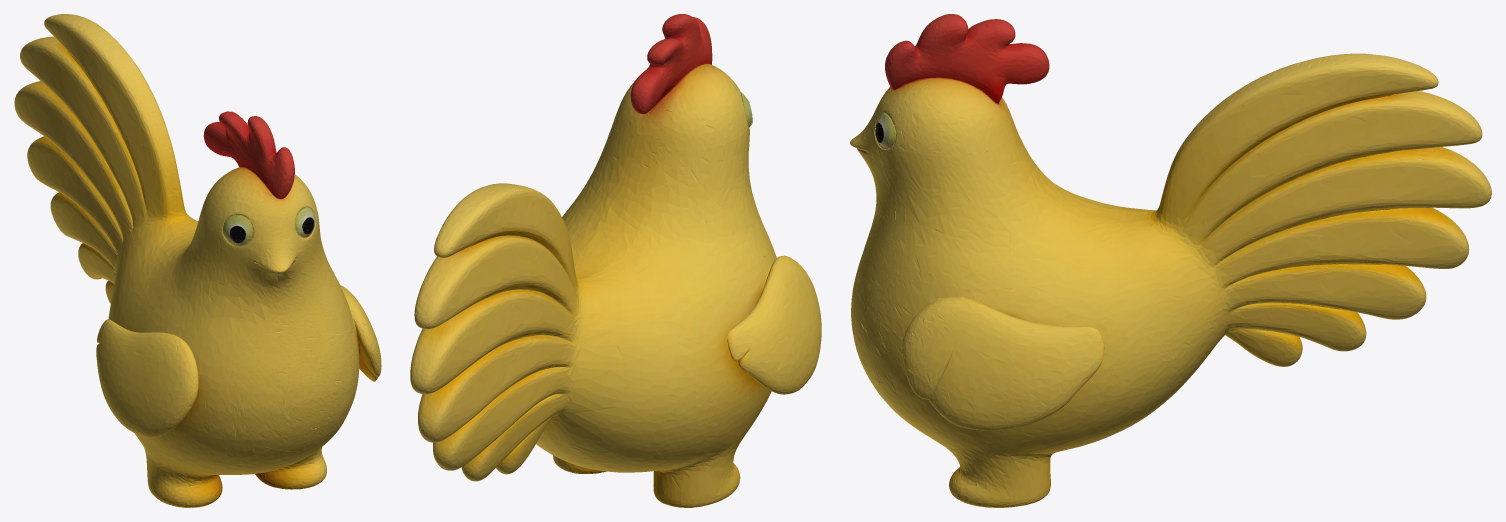
File: naiji.glb
The picture shows the model from 3 angles, left to right: view 1: azimuth 30°, elevation 25°; view 2: azimuth 150°, elevation 25°; view 3: azimuth 270°, elevation 25°; orthographic projection. The views are drawn at different scales.
Visible parts, largest first — view 1: geometry_0; view 2: geometry_0; view 3: geometry_0.
Boxes of the visible parts, x1,y1,x2,y2 form: geometry_0: [14, 14, 381, 507]; geometry_0: [410, 14, 821, 507]; geometry_0: [850, 14, 1491, 507].
Bounding box in the file's own units: 0.5307 × 0.7679 × 1.
1 material, 1 textured.
